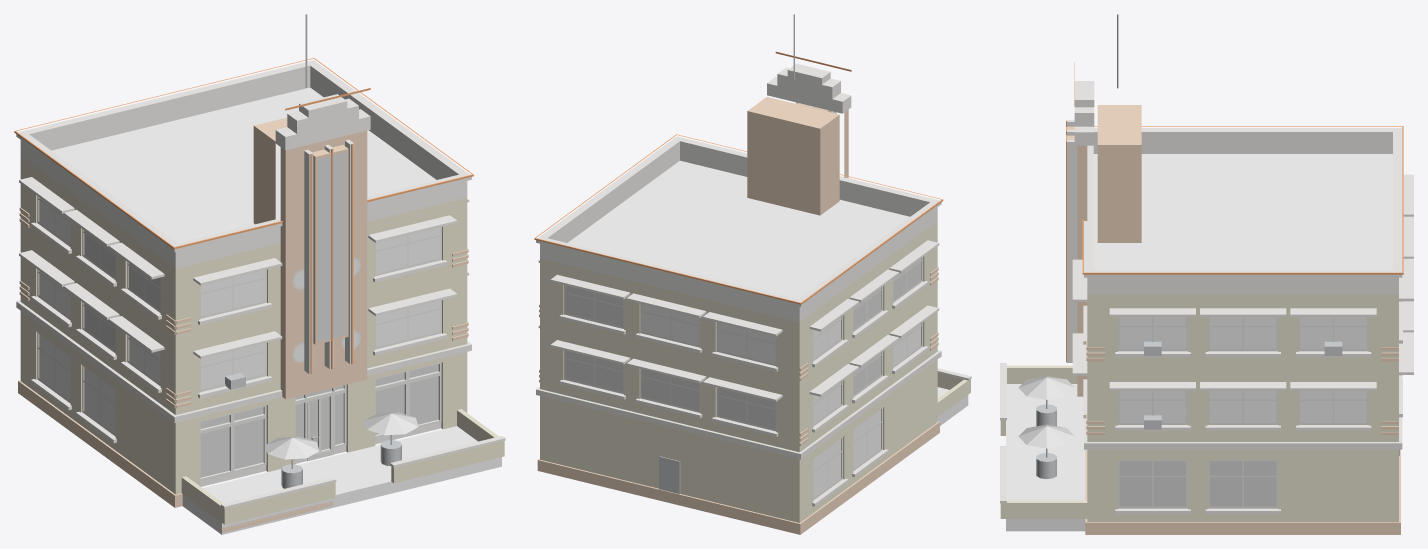
Rendered from deco_w50f2.glb.
3 views of the same model, side by side, from view 1: azimuth 30°, elevation 25°; view 2: azimuth 150°, elevation 25°; view 3: azimuth 270°, elevation 25° (orthographic). The views are drawn at different scales.
Parts seen in each view (by area): view 1: deco_w50f2_Walls, deco_w50f2_Trim, deco_w50f2_Roof, deco_w50f2_Accent, deco_w50f2_Glass, deco_w50f2_WindowsLit, deco_w50f2_Walls2, deco_w50f2_Frames, deco_w50f2_Brand, deco_w50f2_Neon, deco_w50f2_Awning, deco_w50f2_Details; view 2: deco_w50f2_Walls, deco_w50f2_Trim, deco_w50f2_Roof, deco_w50f2_Accent, deco_w50f2_WindowsLit, deco_w50f2_Glass, deco_w50f2_Frames, deco_w50f2_Neon, deco_w50f2_Details; view 3: deco_w50f2_Walls, deco_w50f2_Trim, deco_w50f2_Roof, deco_w50f2_Accent, deco_w50f2_Glass, deco_w50f2_Walls2, deco_w50f2_WindowsLit, deco_w50f2_Frames, deco_w50f2_Awning, deco_w50f2_Details, deco_w50f2_Neon.
Boxes of the visible parts, x1,y1,x2,y2 form: deco_w50f2_Walls: [20, 155, 504, 524]; deco_w50f2_Trim: [16, 60, 505, 509]; deco_w50f2_Roof: [52, 87, 435, 242]; deco_w50f2_Accent: [18, 117, 468, 532]; deco_w50f2_Glass: [39, 197, 440, 434]; deco_w50f2_WindowsLit: [84, 230, 438, 477]; deco_w50f2_Walls2: [182, 426, 501, 534]; deco_w50f2_Frames: [37, 196, 441, 480]; deco_w50f2_Brand: [318, 152, 346, 341]; deco_w50f2_Neon: [14, 58, 473, 373]; deco_w50f2_Awning: [265, 412, 418, 459]; deco_w50f2_Details: [225, 14, 401, 488]; deco_w50f2_Walls: [540, 221, 970, 522]; deco_w50f2_Trim: [536, 63, 971, 506]; deco_w50f2_Roof: [568, 160, 909, 299]; deco_w50f2_Accent: [537, 97, 939, 534]; deco_w50f2_WindowsLit: [565, 258, 921, 429]; deco_w50f2_Glass: [641, 304, 920, 498]; deco_w50f2_Frames: [564, 257, 922, 500]; deco_w50f2_Neon: [534, 51, 943, 304]; deco_w50f2_Details: [659, 14, 794, 494]; deco_w50f2_Walls: [1000, 294, 1398, 521]; deco_w50f2_Trim: [1000, 81, 1413, 514]; deco_w50f2_Roof: [1093, 154, 1392, 269]; deco_w50f2_Accent: [1006, 105, 1400, 534]; deco_w50f2_Glass: [1119, 317, 1366, 422]; deco_w50f2_Walls2: [1006, 384, 1085, 531]; deco_w50f2_WindowsLit: [1119, 461, 1276, 506]; deco_w50f2_Frames: [1118, 317, 1368, 508]; deco_w50f2_Awning: [1018, 376, 1074, 448]; deco_w50f2_Details: [1036, 14, 1399, 479]; deco_w50f2_Neon: [1066, 62, 1403, 362].
Bounding box in the file's own units: 54.4 × 73 × 61.1.
